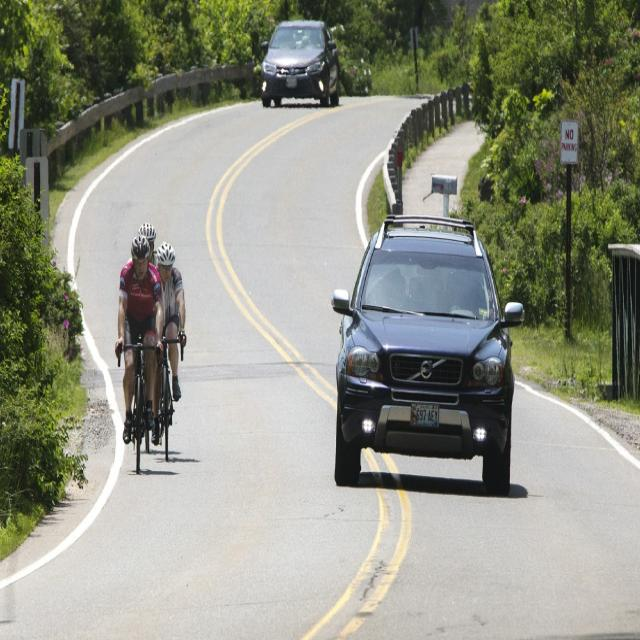body: (114, 234, 167, 443), (149, 239, 188, 446), (126, 221, 160, 271), (449, 267, 481, 306)
